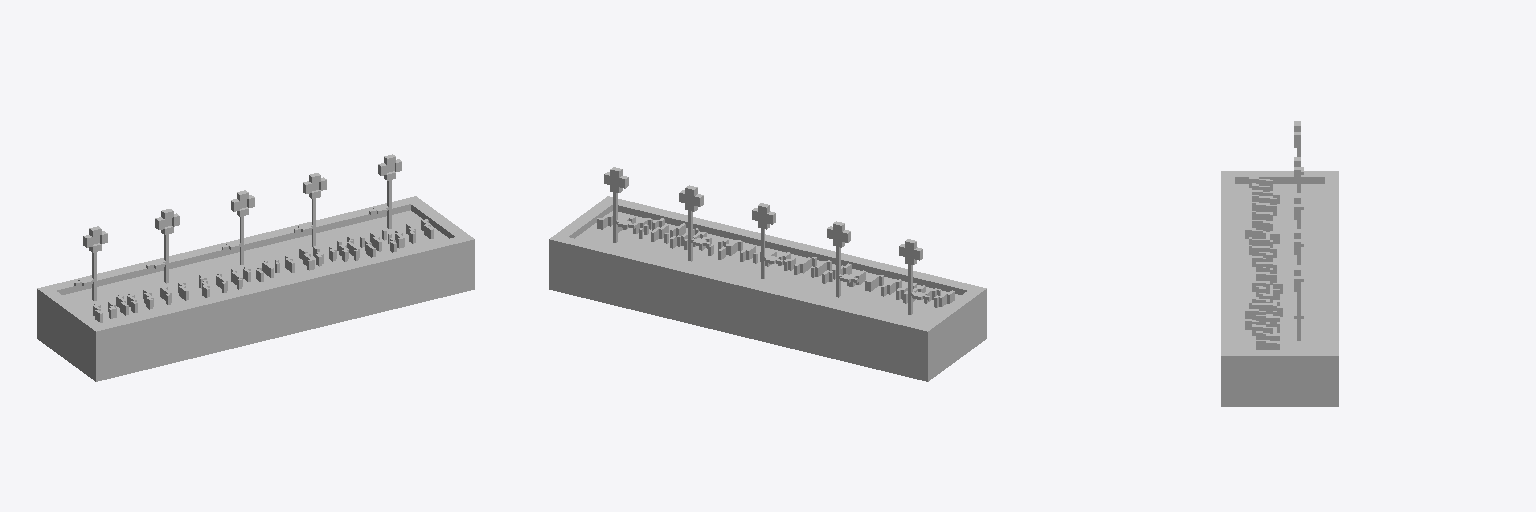
The model's file is plantas_vivas.obj.
3 renders of one model, left to right at view 1: azimuth 30°, elevation 25°; view 2: azimuth 150°, elevation 25°; view 3: azimuth 270°, elevation 25°, orthographic.
Visible parts, largest first — view 1: plantinhasVivas; view 2: plantinhasVivas; view 3: plantinhasVivas.
Part boxes in pixels (left/top/right/bottom): plantinhasVivas: left=37, top=154, right=474, bottom=381; plantinhasVivas: left=549, top=167, right=986, bottom=381; plantinhasVivas: left=1221, top=121, right=1338, bottom=406.
Bounding box in the file's own units: 7.91 × 2.32 × 2.14.